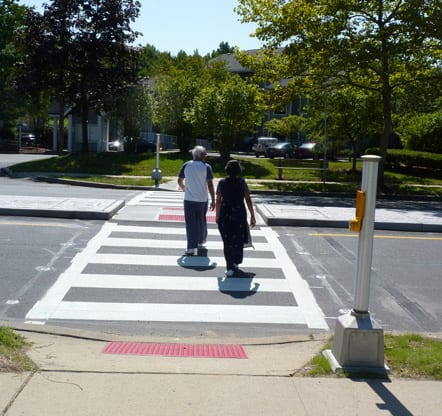pedestrian lane: (35, 224, 330, 330)
person: (218, 159, 255, 275), (176, 145, 214, 256)
pole: (342, 153, 388, 370)
tree: (350, 3, 409, 127)
